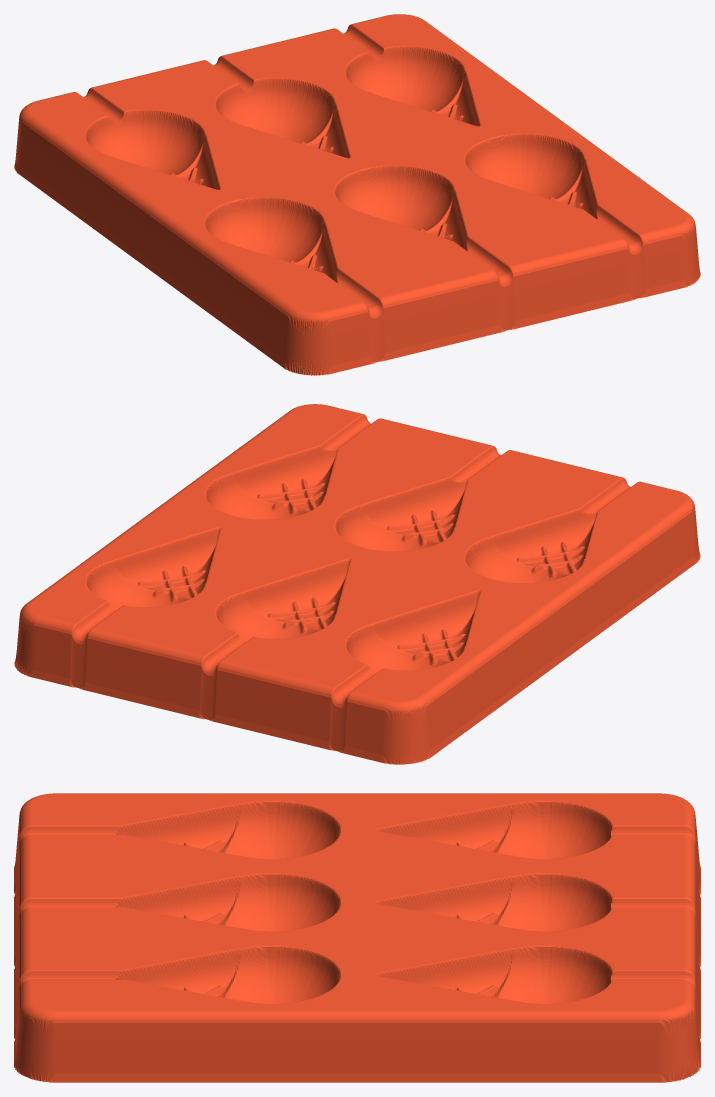
Rendered from mold.glb.
3 views of the same model, one above another, from view 1: azimuth 30°, elevation 25°; view 2: azimuth 150°, elevation 25°; view 3: azimuth 270°, elevation 25° (orthographic). The views are drawn at different scales.
Parts seen in each view (by area): view 1: geometry_0; view 2: geometry_0; view 3: geometry_0.
Boxes of the visible parts, box(x1,y1,x2,y2) form: geometry_0: box(14, 14, 700, 375); geometry_0: box(14, 404, 700, 764); geometry_0: box(14, 793, 700, 1082).
Size of the model in its own units: 0.117 by 0.0155 by 0.1477.
